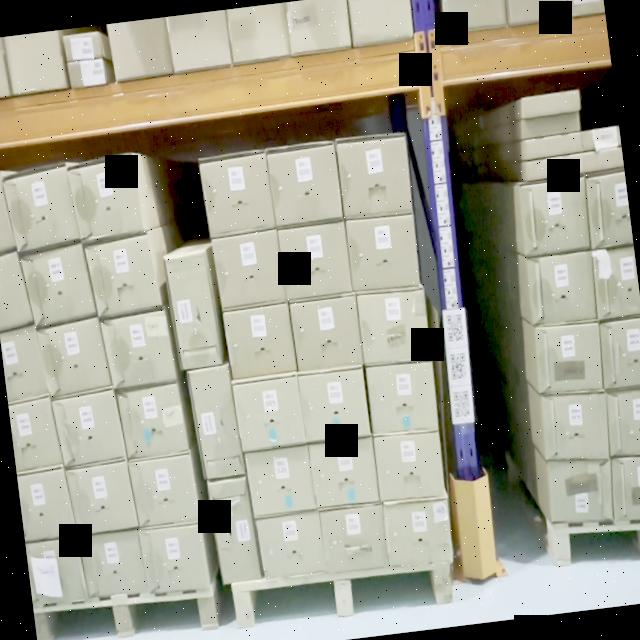box: (2, 163, 81, 251), (67, 153, 145, 241), (84, 232, 161, 316), (21, 242, 96, 328), (268, 140, 342, 227), (336, 136, 414, 218), (200, 150, 276, 234), (164, 255, 220, 368), (190, 365, 245, 478), (101, 308, 177, 388), (38, 316, 112, 396), (52, 387, 125, 467), (298, 365, 372, 443), (278, 220, 352, 298), (519, 175, 590, 256), (207, 477, 261, 583), (356, 287, 431, 363), (290, 292, 363, 370), (214, 230, 286, 308), (346, 215, 420, 290), (128, 451, 200, 527), (117, 382, 188, 459), (65, 460, 138, 534), (234, 376, 306, 450), (367, 362, 438, 436), (224, 304, 296, 376), (526, 251, 596, 324), (139, 522, 209, 594), (383, 497, 453, 568), (245, 446, 316, 516), (310, 437, 379, 508), (374, 434, 446, 501), (534, 322, 602, 392), (321, 504, 388, 574), (78, 529, 148, 596), (541, 391, 609, 459), (16, 464, 76, 541), (25, 536, 88, 607), (258, 512, 326, 577), (8, 395, 62, 472), (547, 459, 613, 521), (0, 324, 49, 403), (585, 168, 633, 248), (592, 247, 640, 319), (600, 316, 640, 388), (0, 249, 33, 330), (607, 388, 640, 456), (611, 456, 640, 522), (523, 90, 579, 118), (524, 132, 582, 159), (521, 111, 579, 137), (526, 154, 582, 179), (0, 172, 16, 249), (582, 146, 623, 172), (581, 126, 621, 150)
